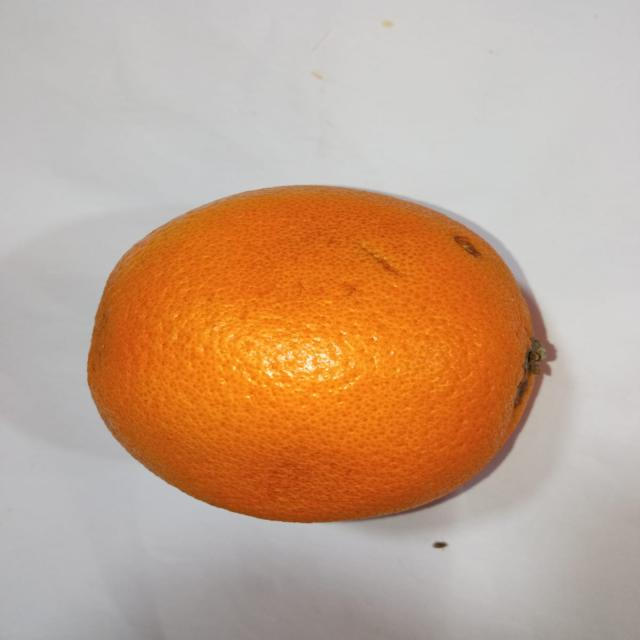fresh_orange: (85, 186, 541, 522)
